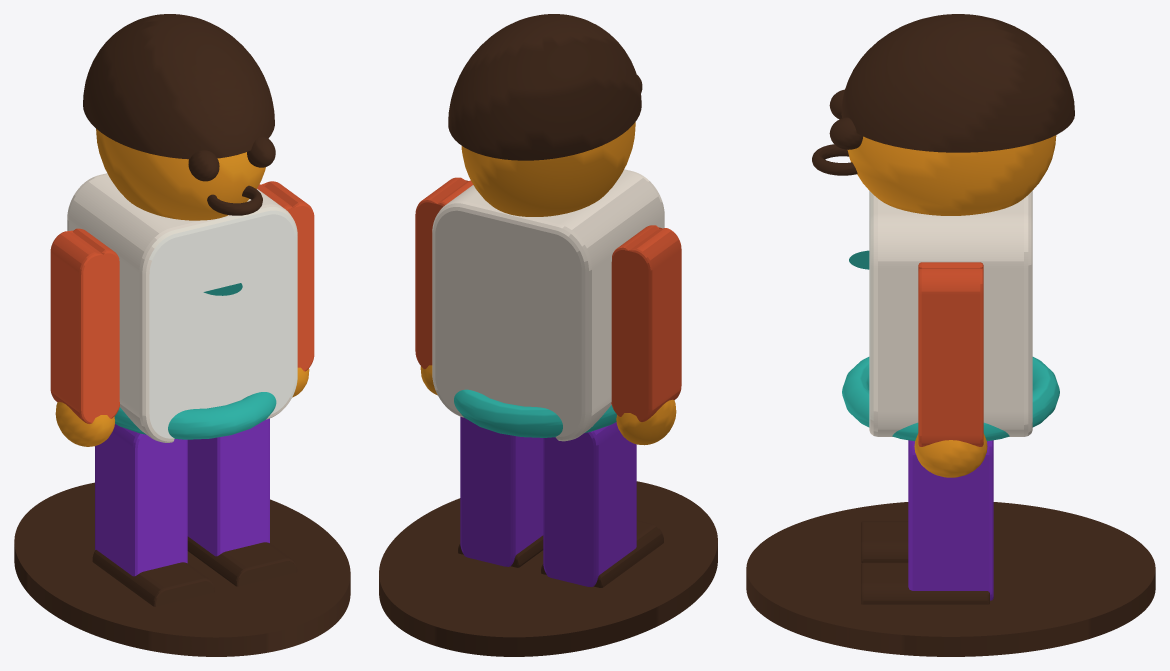
File: 1141_海底两万里_阿龙纳斯.glb
3 renders of one model, left to right at view 1: azimuth 30°, elevation 25°; view 2: azimuth 150°, elevation 25°; view 3: azimuth 270°, elevation 25°, orthographic. The views are drawn at different scales.
Parts seen in each view (by area): view 1: card_1141; view 2: card_1141; view 3: card_1141.
Part boxes in pixels (x1=…): card_1141: x1=14, y1=14, x2=350, y2=656; card_1141: x1=379, y1=14, x2=717, y2=656; card_1141: x1=746, y1=14, x2=1155, y2=656.
Bounding box in the file's own units: 0.5166 × 1 × 0.6542.
